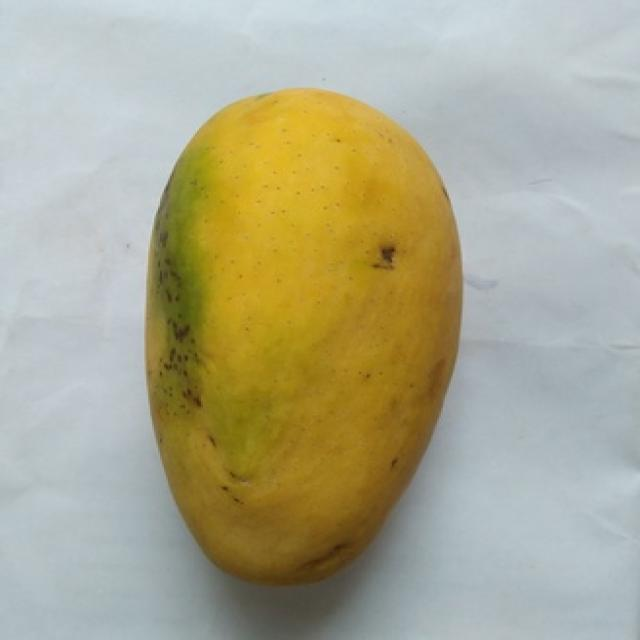Mango: (146, 89, 460, 583)
